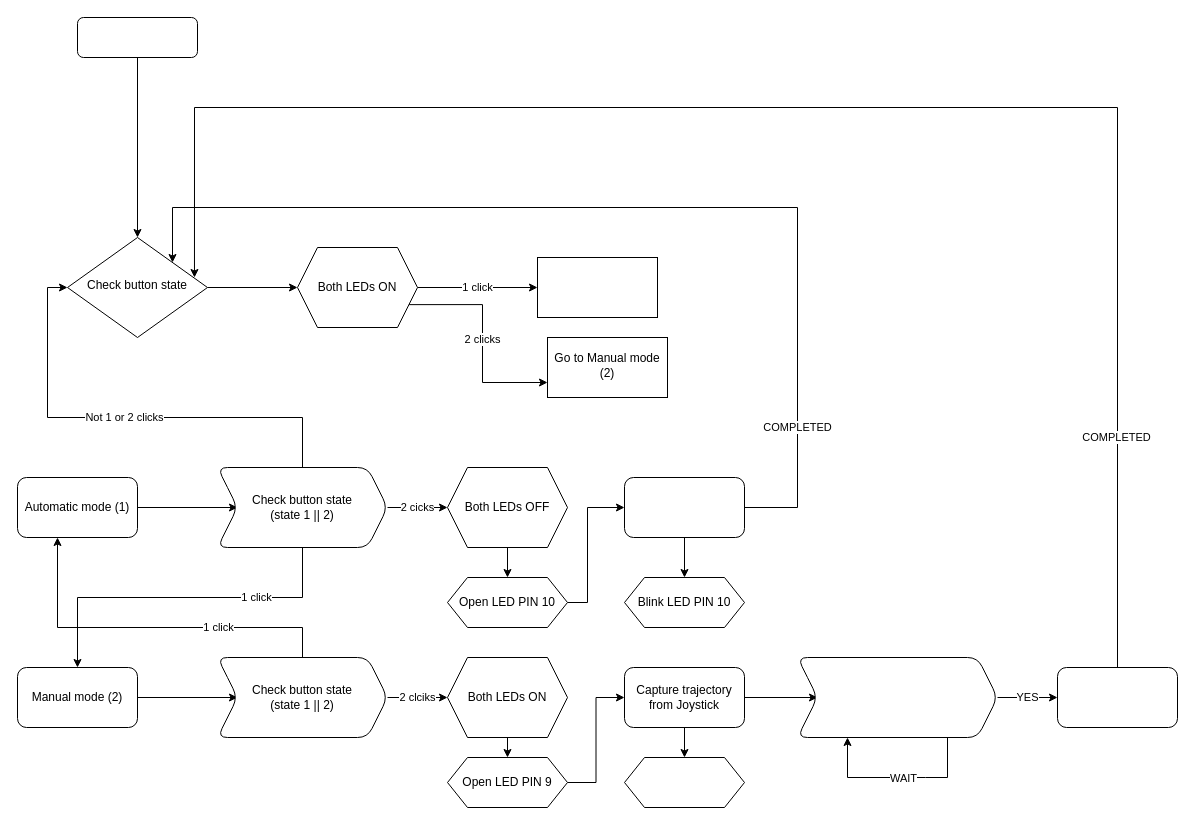
The diagram is 1195 pixels wide and 825 high, and some of its shapes have lost their labels. The shapes that lost their labels are listed below. From the top down, each one's centre as x and y in pixels, then its label:
At pixel 137 37: "Start".
At pixel 597 287: "Go to Automatic mode (1)".
At pixel 684 507: "Run predefined program on servos".
At pixel 897 697: "Check for Joystick's button".
At pixel 1117 697: "Run function for manual design".
At pixel 684 782: "Blink LED PIN 9".
